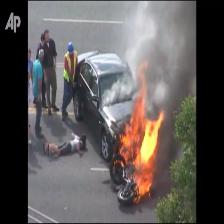fire: (116, 87, 180, 218)
smoke: (131, 0, 196, 119)
